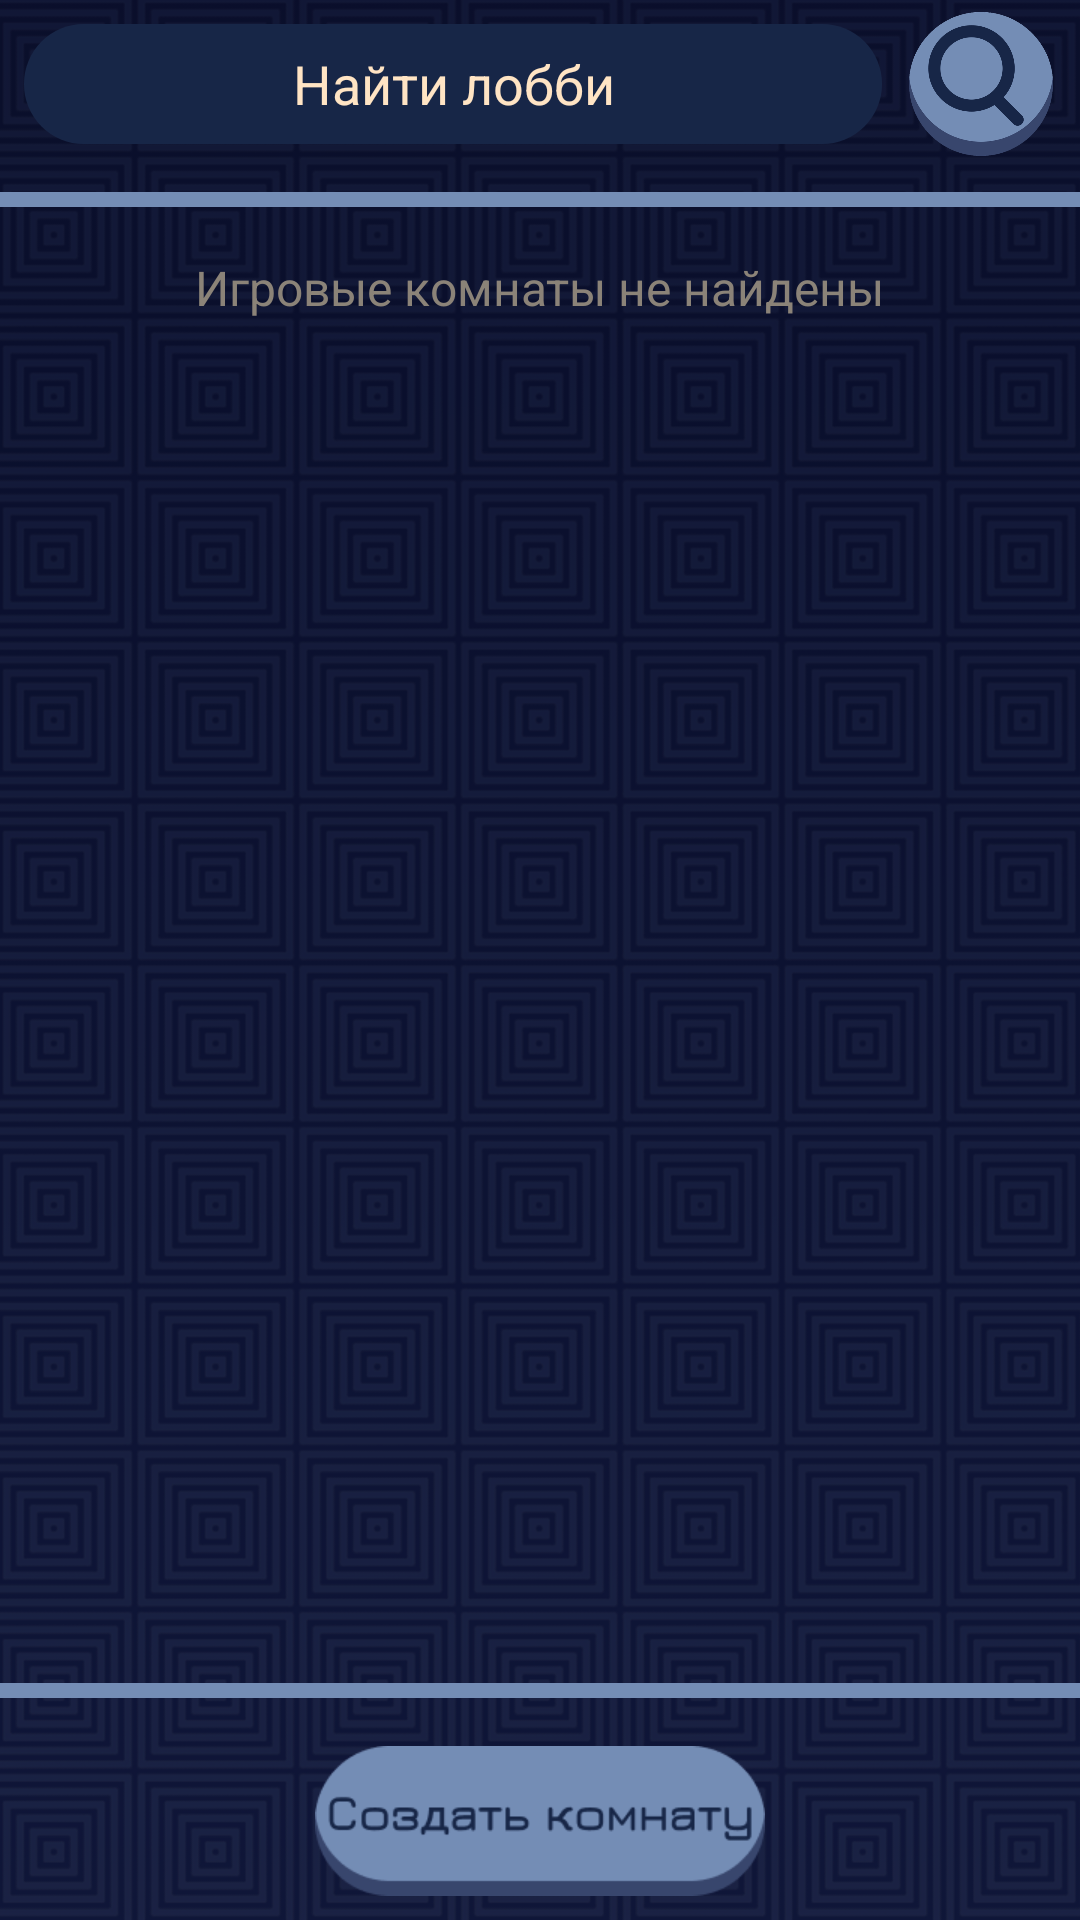

Icon click points for this 1080 x 1920 phone screenshot, format [x,y]:
search: [981,84]
